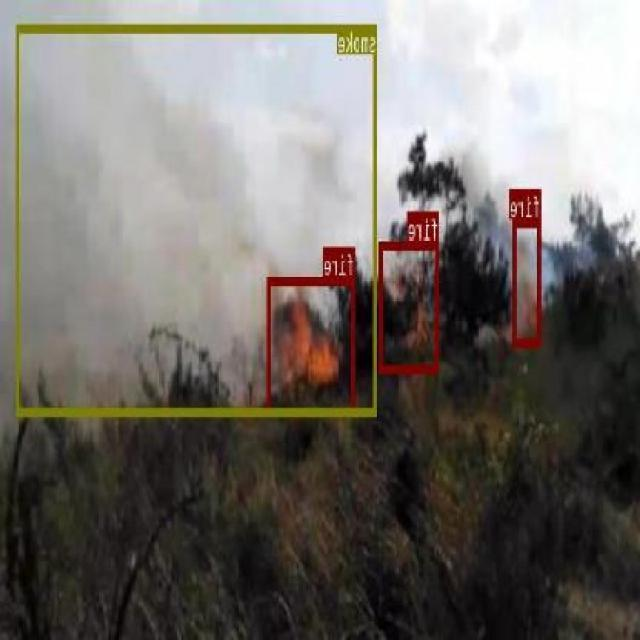Fire: (268, 274, 356, 414), (380, 239, 440, 372), (513, 217, 542, 345)
Smoke: (16, 23, 378, 414)
